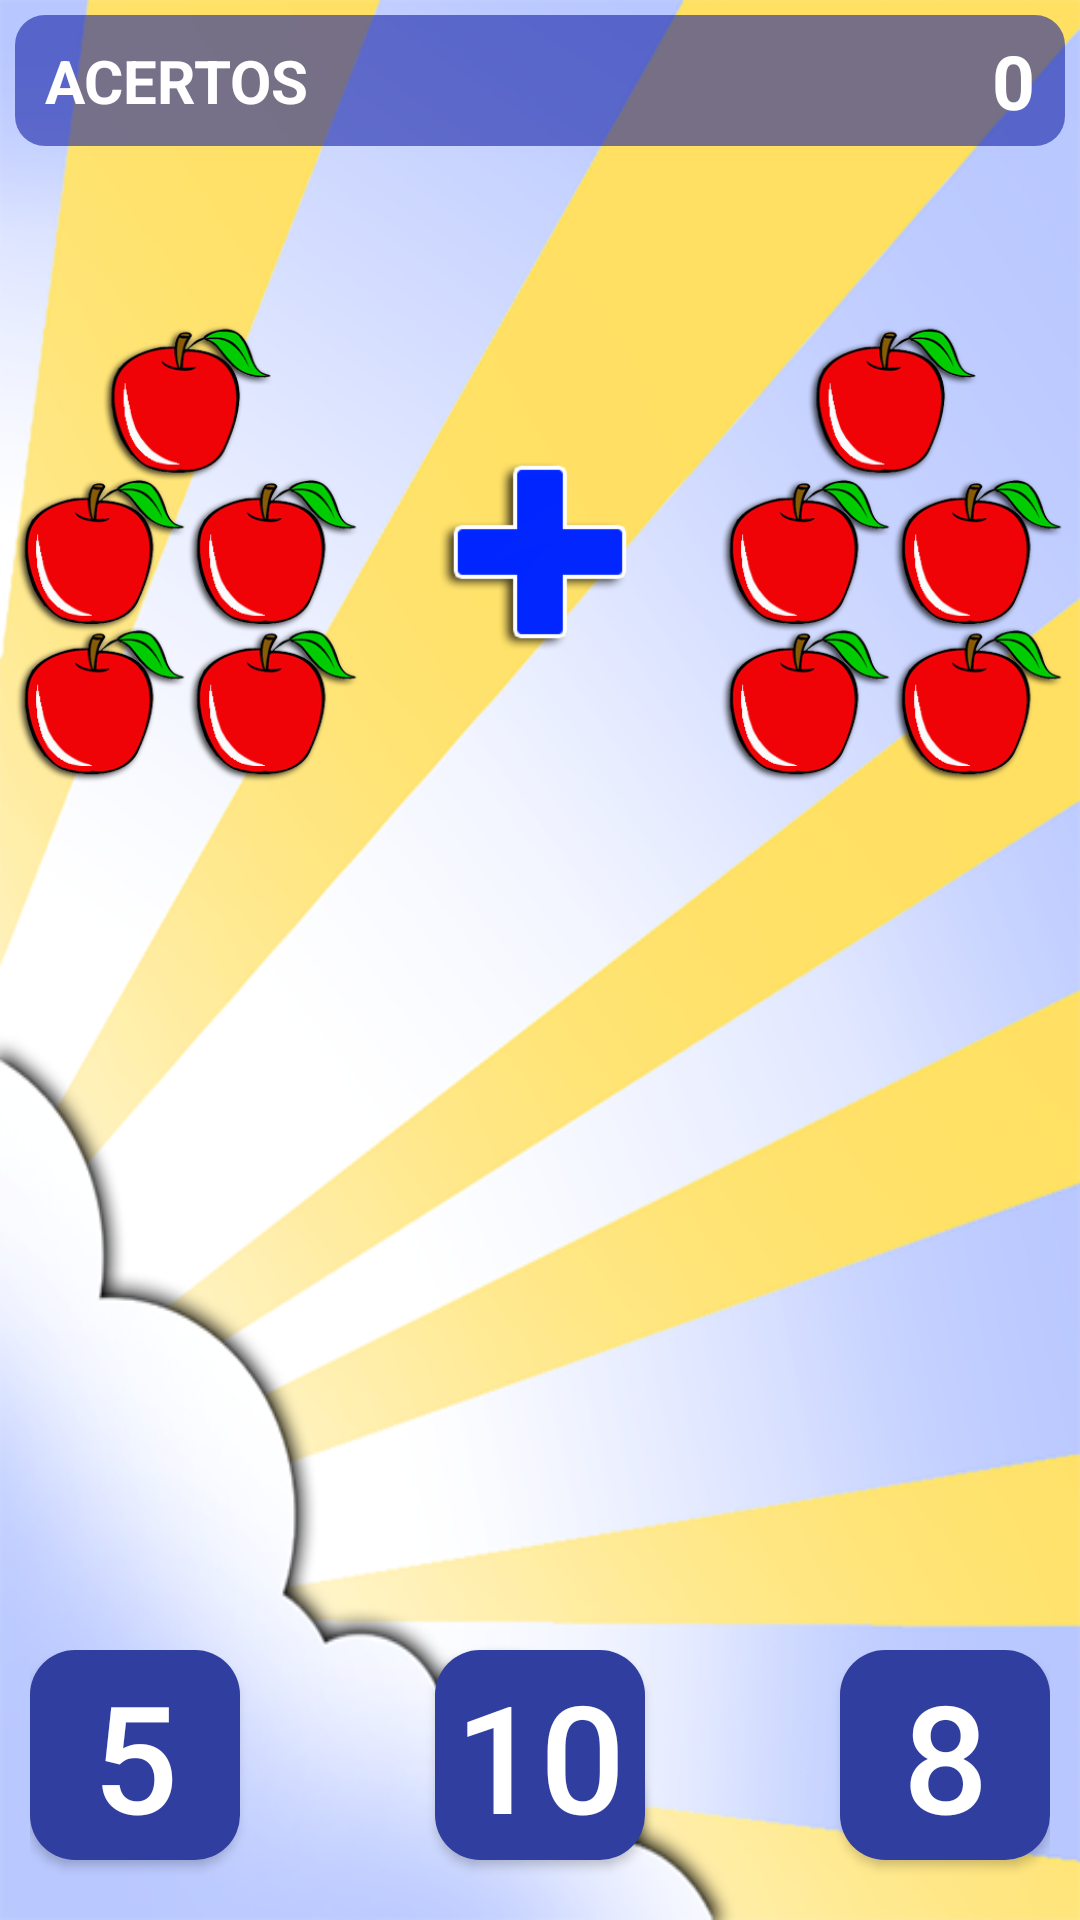

Named icons in this screenshot (1080×1920) and their centers, [x,y]:
mais: [544,561]
